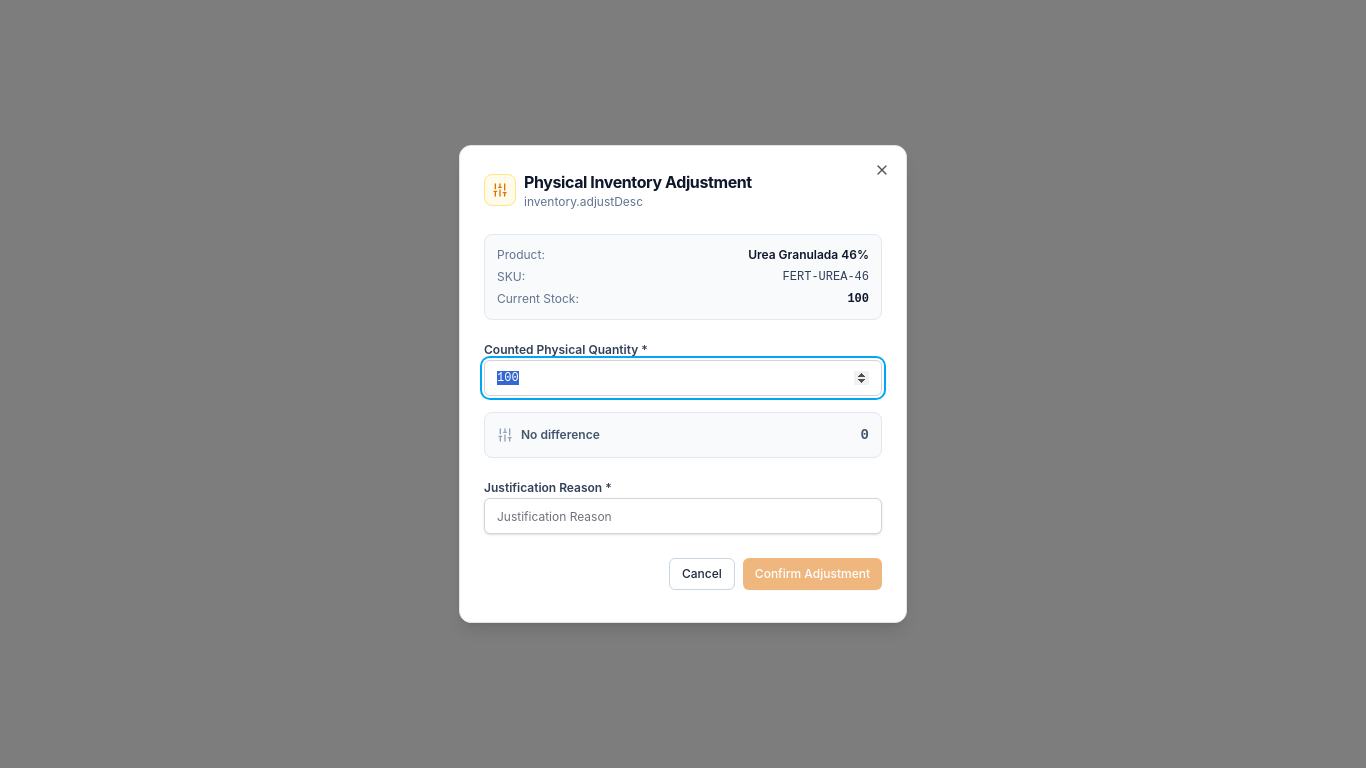
Test: Stock Management Component Tests › allows BRANCH_MANAGER to perform physical adjustment via AdjustStockDialog
The image size is (1366, 768).
Expected: the heading "Physical Inventory Adjustment" is shown, [524,170,752,194]
Expected: the text "Urea Granulada 46%" is shown, [748,247,869,263]
Change counted physical count to 92
Replace the text in the number field labelled "Counted Physical Quantity *" with "92" at (683, 378), box [484,360,882,396]
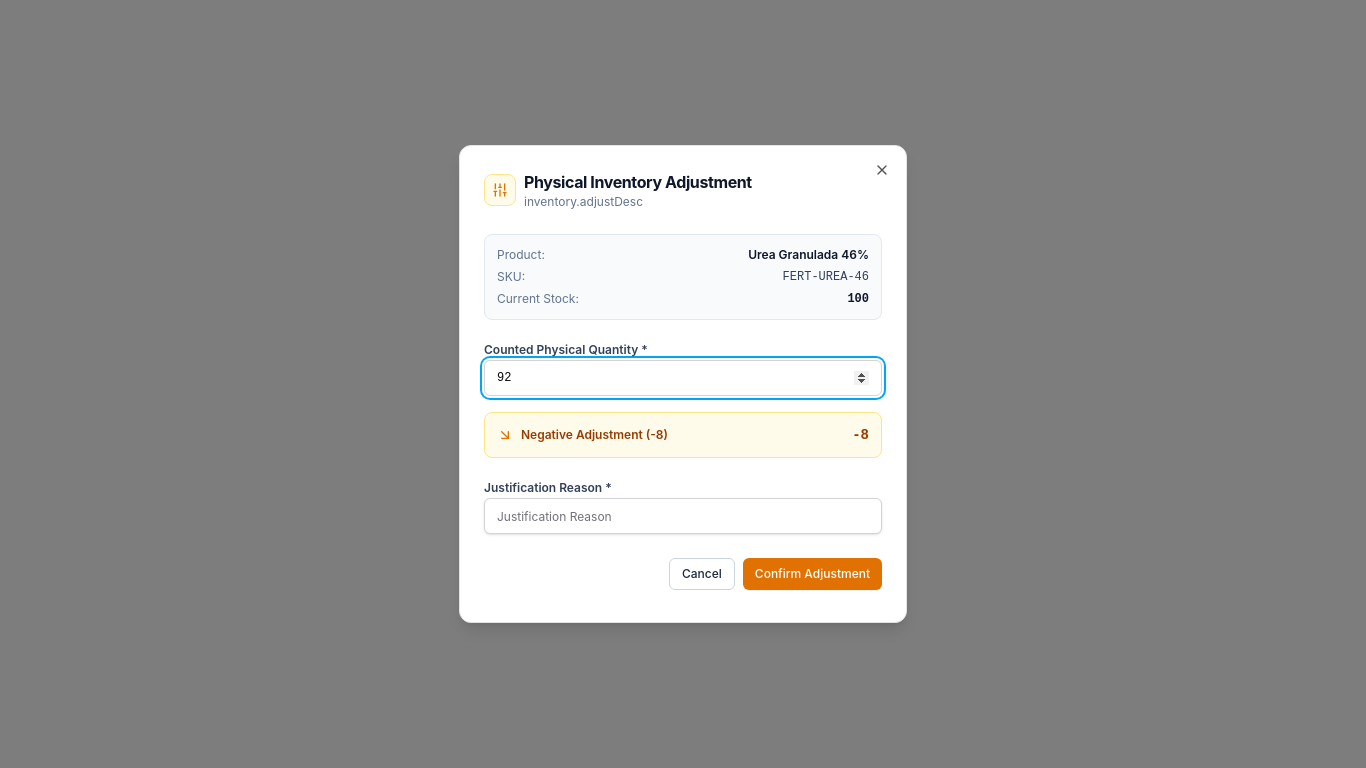
Now the text "Negative Adjustment (-8)" is shown, box [521,427,668,443]
Enter mandatory reason
Type "Annual audit discrepancy" into the field labelled "Justification Reason *" at (683, 516), box [484,498,882,534]
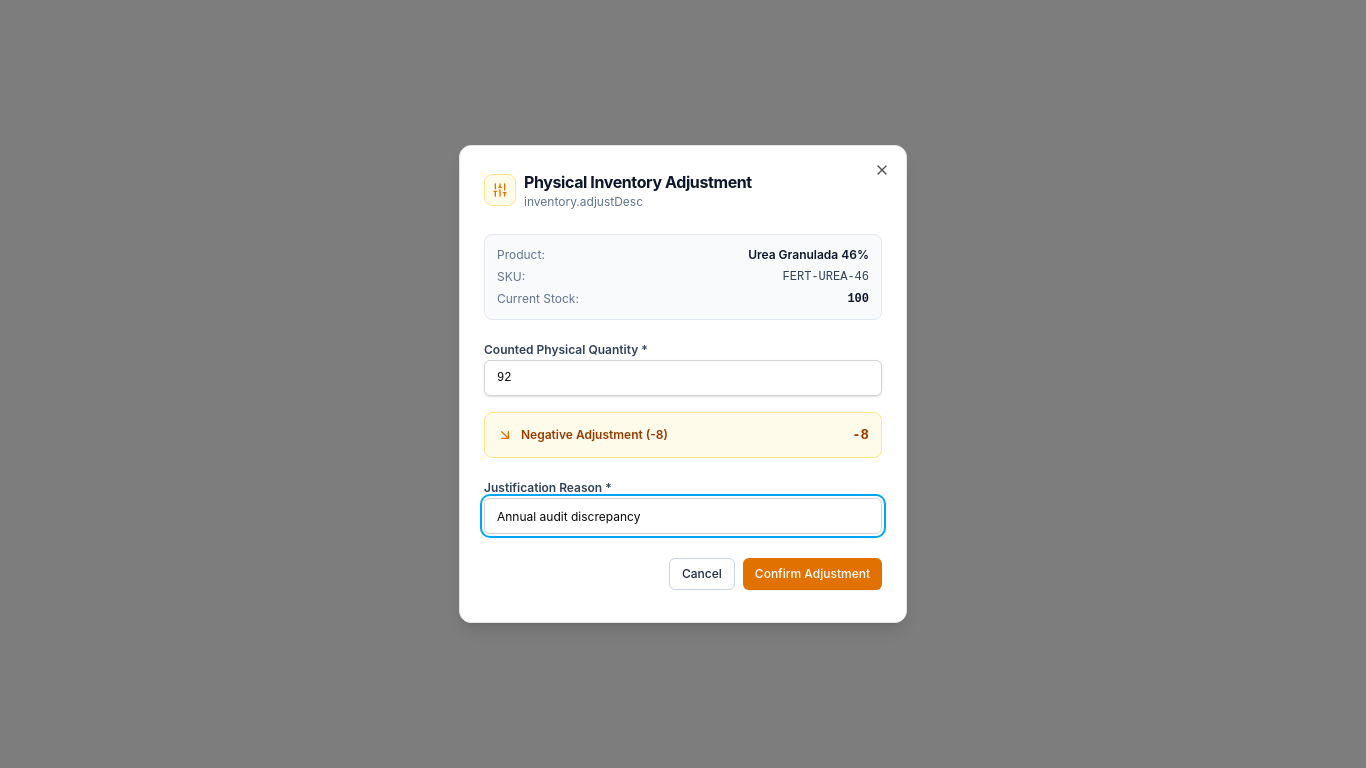
Click the button "Confirm Adjustment" at (812, 574), box [743,558,882,590]
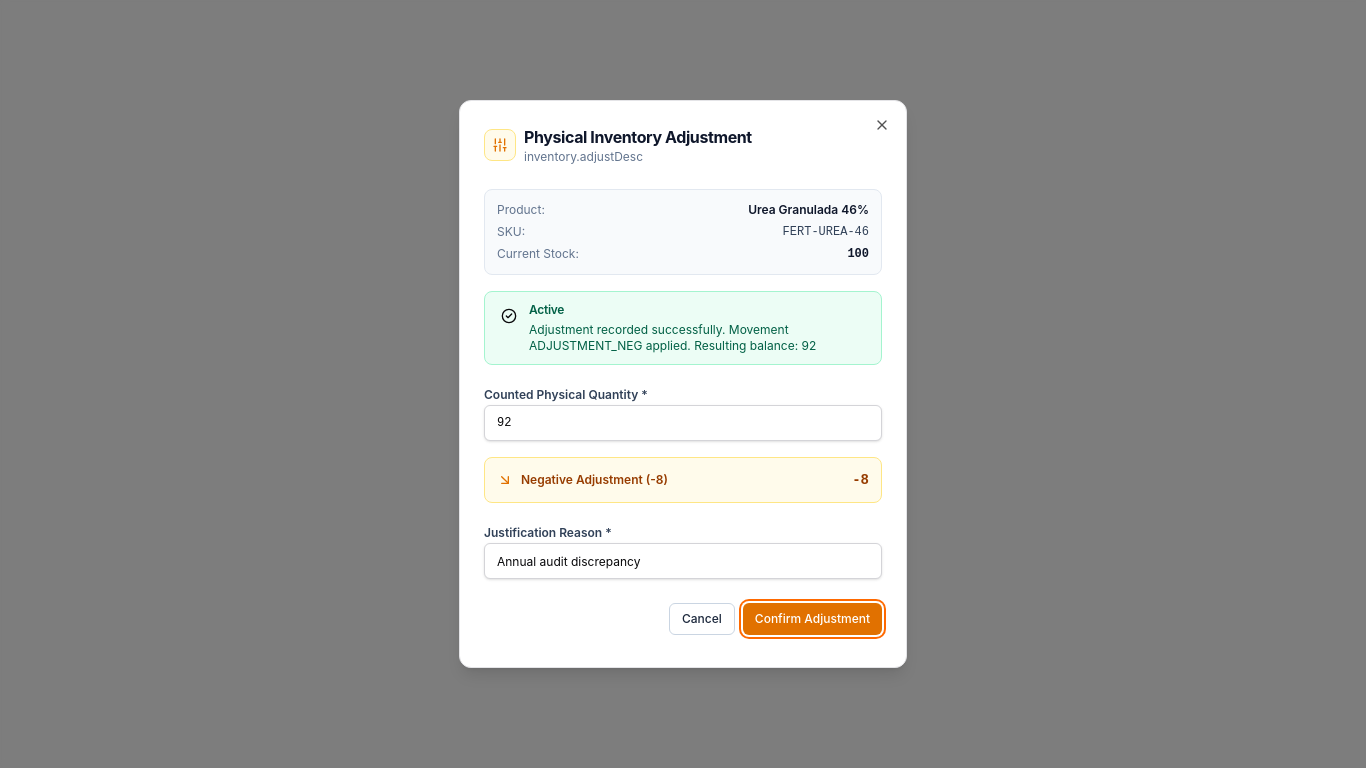
Now the text "Adjustment recorded successfully" is shown, box [529,322,816,353]
